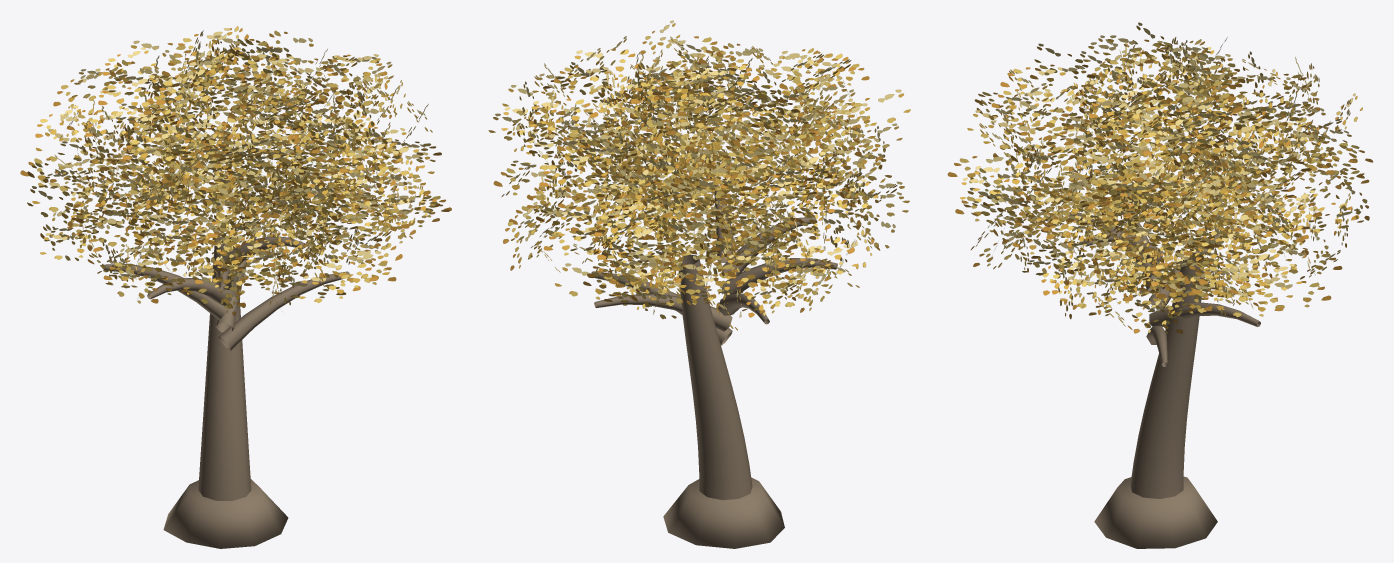
The model's file is tree2_ginkgo.glb.
The picture shows the model from 3 angles, left to right: view 1: azimuth 30°, elevation 25°; view 2: azimuth 150°, elevation 25°; view 3: azimuth 270°, elevation 25°; orthographic projection. The views are drawn at different scales.
Parts seen in each view (by area): view 1: cards, body; view 2: cards, body; view 3: cards, body.
Boxes of the visible parts, x1=… form: cards: x1=20, y1=26, x2=451, y2=315; body: x1=103, y1=234, x2=349, y2=548; cards: x1=488, y1=20, x2=910, y2=330; body: x1=591, y1=185, x2=837, y2=548; cards: x1=947, y1=22, x2=1372, y2=333; body: x1=1069, y1=208, x2=1260, y2=548.
Size of the model in its own units: 5.74 by 6.93 by 5.75.
Materials: 2 (1 with a texture image).
